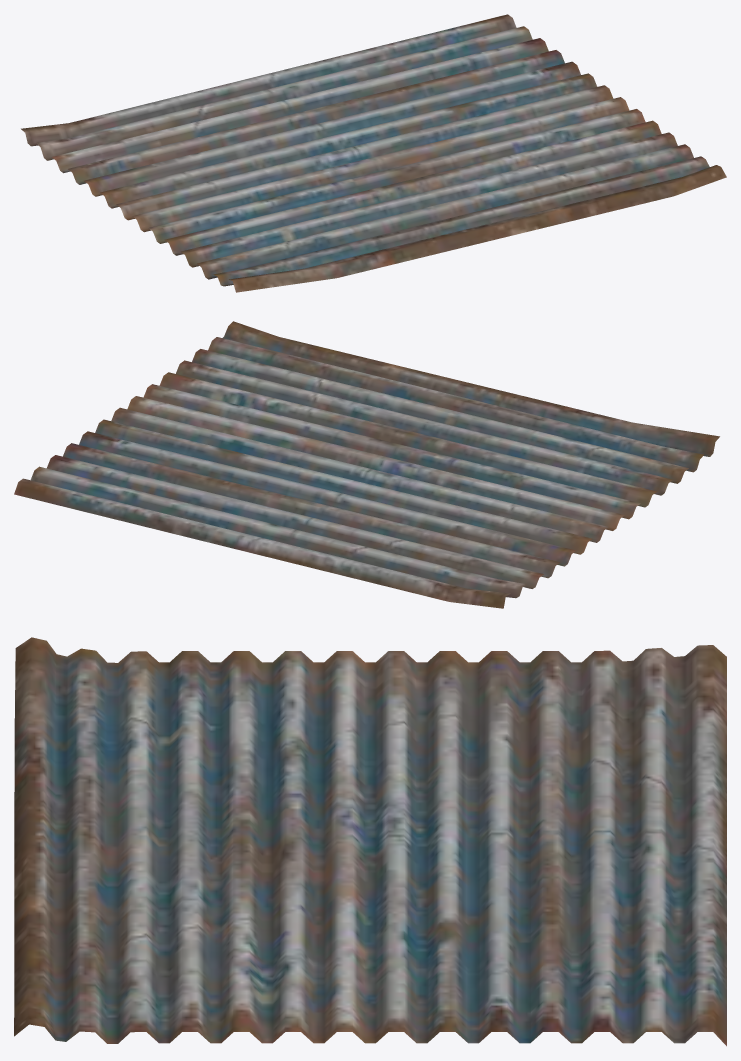
File: zipline_platform_corrugated_panel.glb
3 views of the same model, one above another, from view 1: azimuth 30°, elevation 25°; view 2: azimuth 150°, elevation 25°; view 3: azimuth 270°, elevation 25° (orthographic). The views are drawn at different scales.
Parts seen in each view (by area): view 1: zipline_platform_corrugated_panel; view 2: zipline_platform_corrugated_panel; view 3: zipline_platform_corrugated_panel.
Boxes of the visible parts, x1,y1,x2,y2 form: zipline_platform_corrugated_panel: (21, 14, 726, 292); zipline_platform_corrugated_panel: (14, 321, 719, 608); zipline_platform_corrugated_panel: (14, 637, 726, 1046).
Bounding box in the file's own units: 1.25 × 0.0469 × 0.9884.
1 material, 1 textured.
